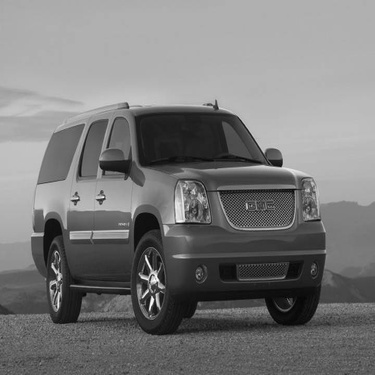car: (17, 92, 337, 319)
